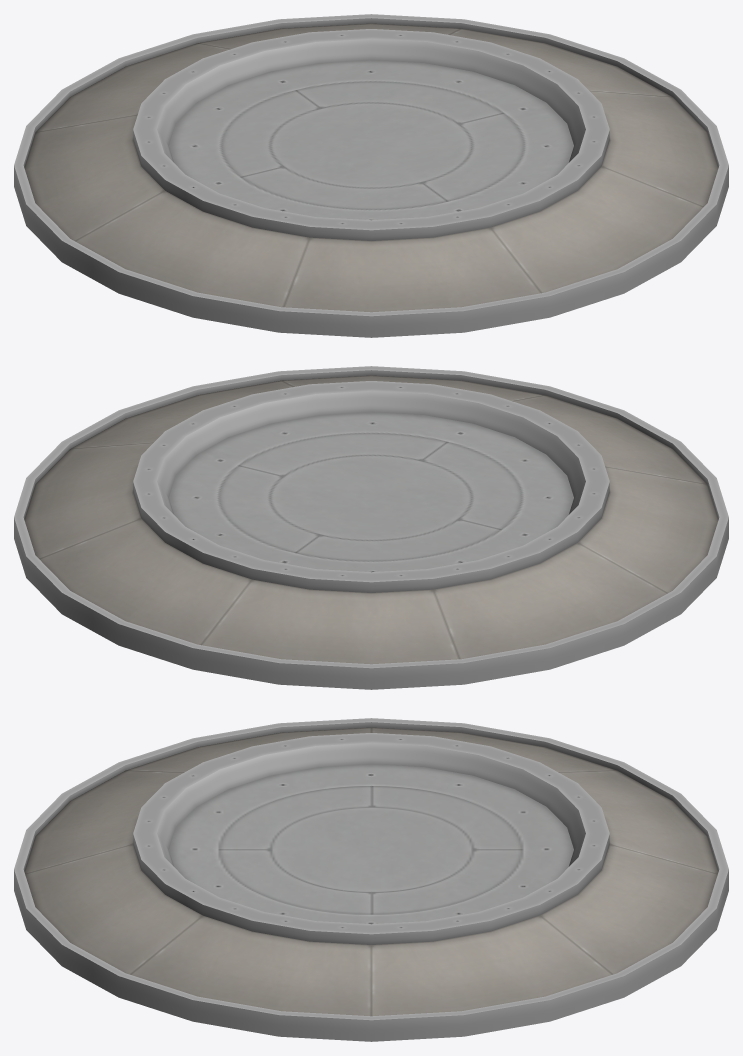
The model's file is Alniyat_Mount_1.obj.
The picture shows the model from 3 angles, top to bottom: view 1: azimuth 30°, elevation 25°; view 2: azimuth 150°, elevation 25°; view 3: azimuth 270°, elevation 25°; orthographic projection.
Parts seen in each view (by area): view 1: Alniyat_Mount_1; view 2: Alniyat_Mount_1; view 3: Alniyat_Mount_1.
Part boxes in pixels (x1,y1,x2,y2): Alniyat_Mount_1: (14, 14, 728, 337); Alniyat_Mount_1: (14, 366, 728, 689); Alniyat_Mount_1: (14, 718, 728, 1041).
Size of the model in its own units: 1.88 by 0.1656 by 1.88.
